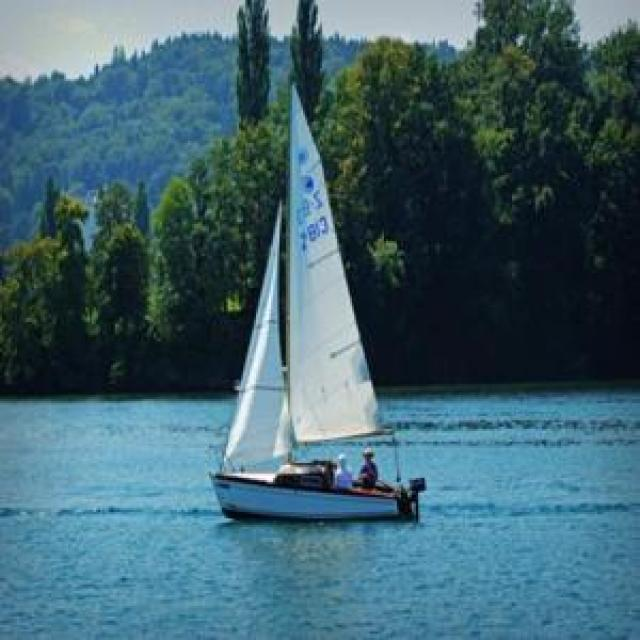sailboat: (203, 78, 410, 516)
